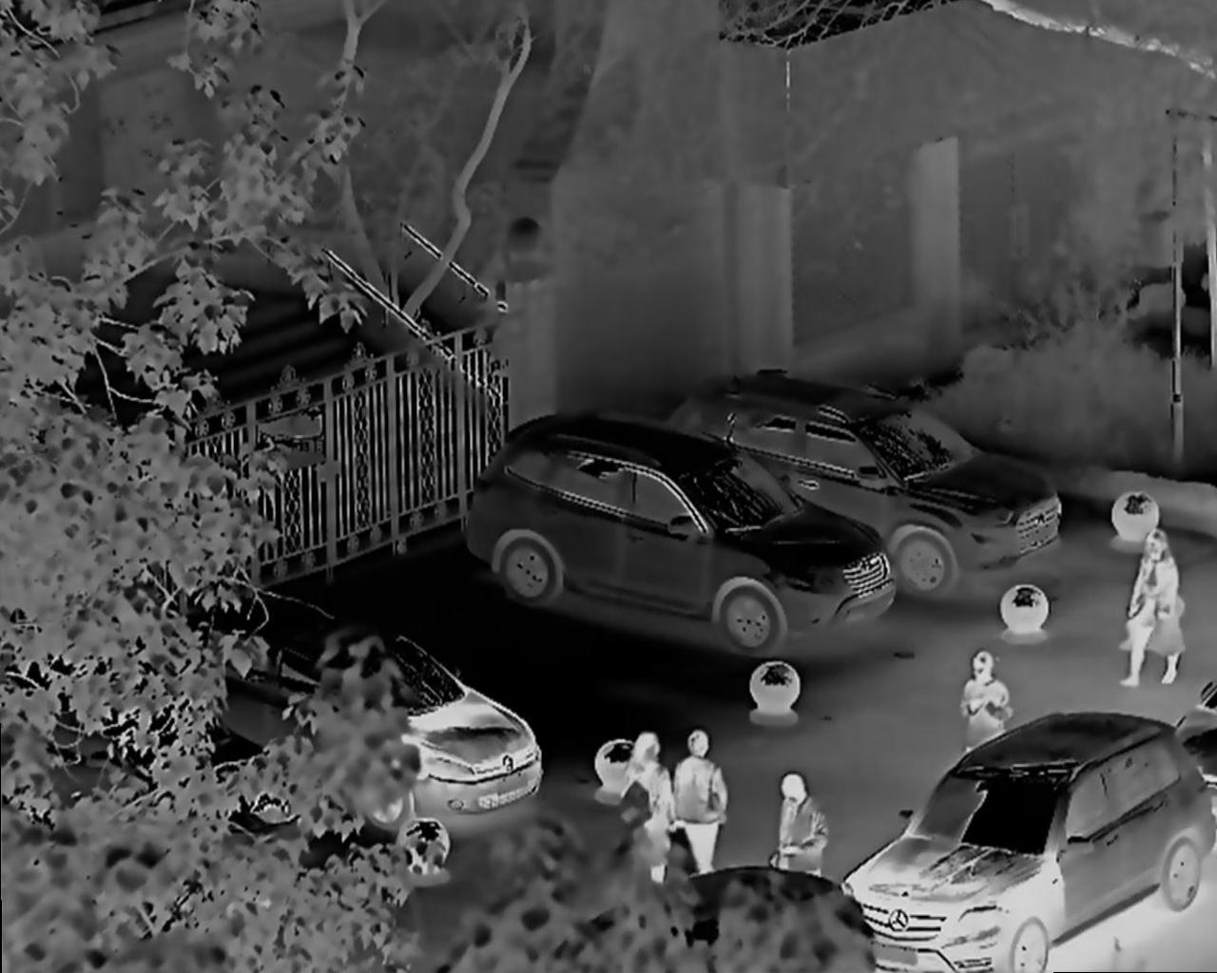person: (764, 759, 858, 906), (1118, 526, 1194, 704), (669, 724, 737, 894), (618, 720, 674, 890), (960, 641, 1031, 754)
